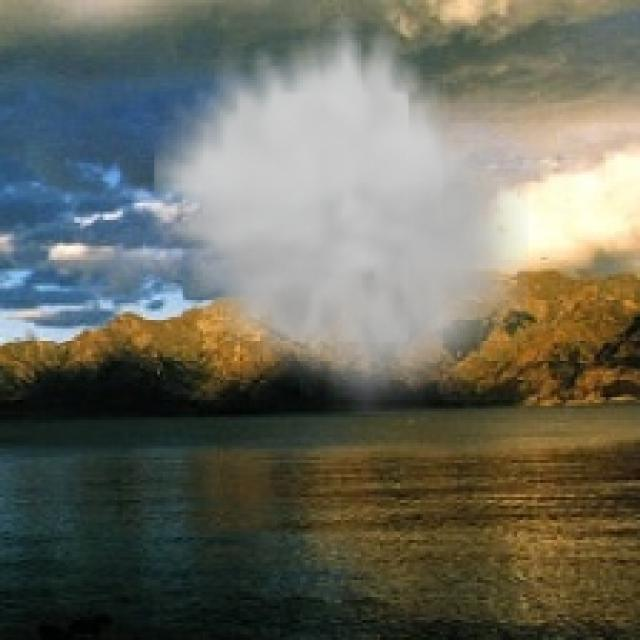smoke: (154, 17, 529, 414)
